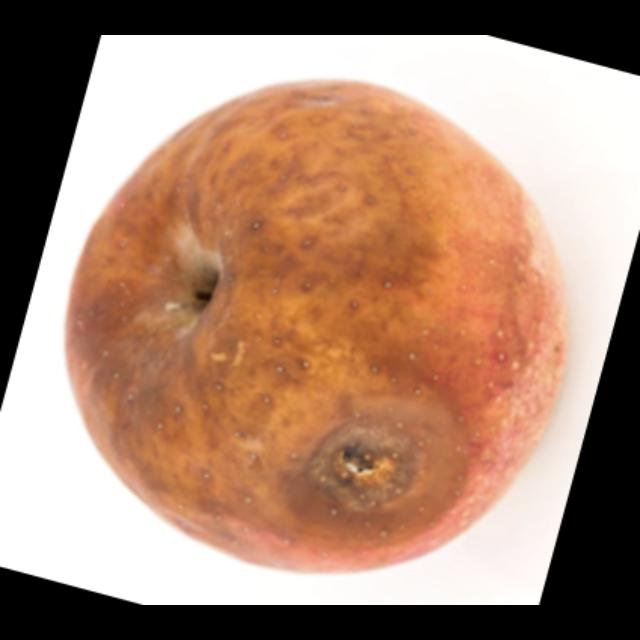Apel Tidak Segar: (71, 87, 569, 564)
